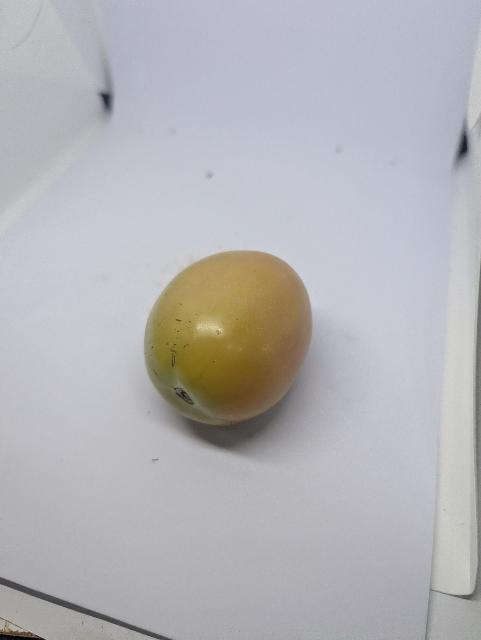turning: (144, 251, 313, 425)
